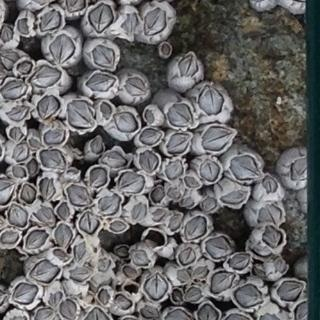Barnacle: (202, 125, 234, 152), (68, 99, 94, 130), (49, 34, 75, 64), (230, 156, 261, 181), (88, 3, 113, 34), (27, 261, 59, 284), (143, 272, 169, 299), (143, 8, 169, 35), (39, 147, 68, 171), (168, 103, 196, 127), (184, 216, 209, 242), (235, 283, 262, 307), (36, 93, 60, 120), (93, 43, 116, 71), (200, 86, 222, 115), (205, 237, 232, 260), (30, 66, 61, 86), (210, 270, 235, 294), (117, 171, 145, 192), (166, 134, 191, 157), (37, 9, 61, 32), (6, 104, 32, 125), (13, 283, 37, 305), (220, 189, 249, 207), (86, 73, 115, 91), (68, 184, 91, 206), (113, 112, 138, 132), (198, 160, 220, 182), (259, 202, 282, 223), (290, 157, 310, 181), (1, 80, 26, 99), (277, 282, 303, 300), (98, 195, 121, 215), (10, 203, 28, 228), (126, 76, 147, 97), (25, 230, 48, 249), (102, 151, 127, 168), (177, 56, 198, 76), (0, 50, 20, 71), (79, 211, 98, 233), (43, 127, 66, 145), (196, 303, 220, 320), (138, 127, 162, 144), (56, 222, 71, 249), (263, 227, 282, 248), (164, 160, 183, 181), (140, 150, 158, 172), (70, 265, 93, 282), (122, 12, 139, 35), (33, 204, 54, 222), (91, 167, 108, 187), (12, 142, 29, 162), (229, 254, 251, 269), (40, 178, 55, 200), (131, 203, 148, 222), (131, 249, 149, 266), (152, 206, 170, 223), (61, 300, 77, 319), (113, 293, 132, 309), (20, 184, 36, 203), (262, 175, 278, 194), (294, 300, 309, 320), (1, 229, 19, 244), (169, 212, 183, 231), (185, 286, 203, 300), (56, 203, 70, 221), (65, 0, 86, 12), (274, 256, 289, 272), (180, 248, 195, 264), (202, 195, 216, 212), (17, 18, 30, 36), (99, 101, 111, 120), (8, 126, 23, 141), (36, 309, 56, 320), (74, 241, 85, 261), (91, 135, 103, 153), (193, 265, 209, 278), (53, 250, 68, 263), (142, 110, 155, 125), (18, 61, 34, 73), (0, 26, 12, 42), (151, 187, 164, 201), (123, 266, 138, 278), (49, 291, 60, 307), (110, 220, 126, 231), (177, 269, 190, 282), (99, 257, 111, 271), (11, 166, 26, 177), (99, 288, 109, 304), (27, 159, 37, 175), (29, 138, 42, 150), (184, 176, 198, 187), (114, 247, 128, 257), (180, 197, 192, 208), (172, 289, 182, 302), (168, 188, 180, 198), (162, 43, 171, 56), (68, 170, 77, 179)
